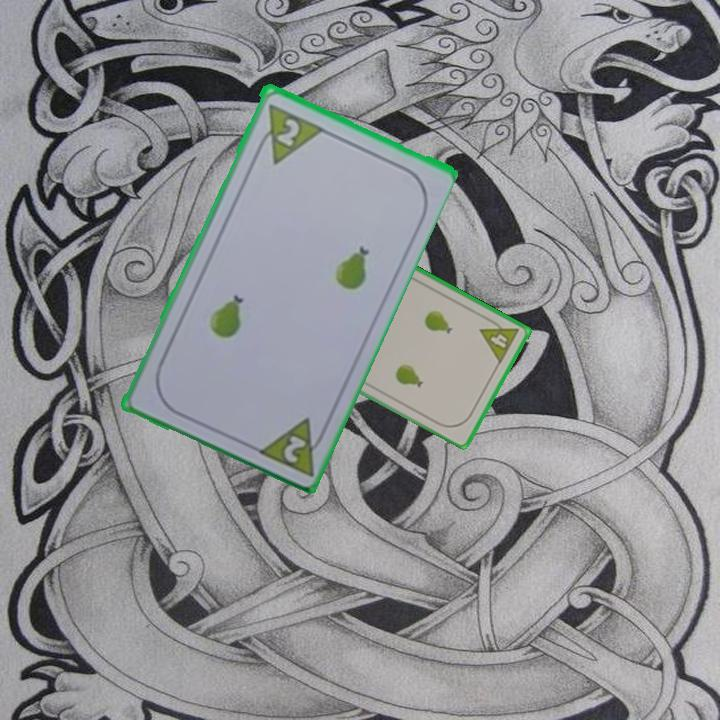2p: (252, 412, 331, 479), (272, 114, 303, 149)
4p: (476, 313, 522, 366)
